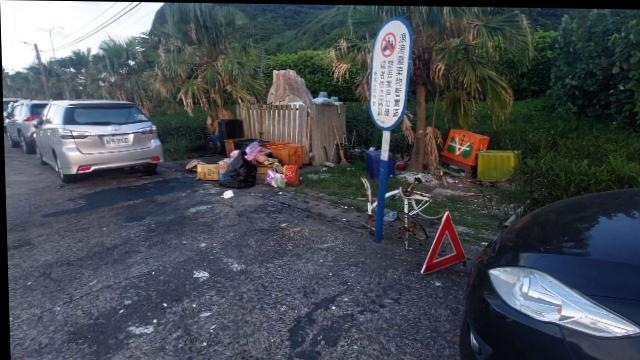pollute: (183, 135, 302, 189), (383, 175, 446, 249), (437, 128, 517, 179), (362, 175, 378, 225)
